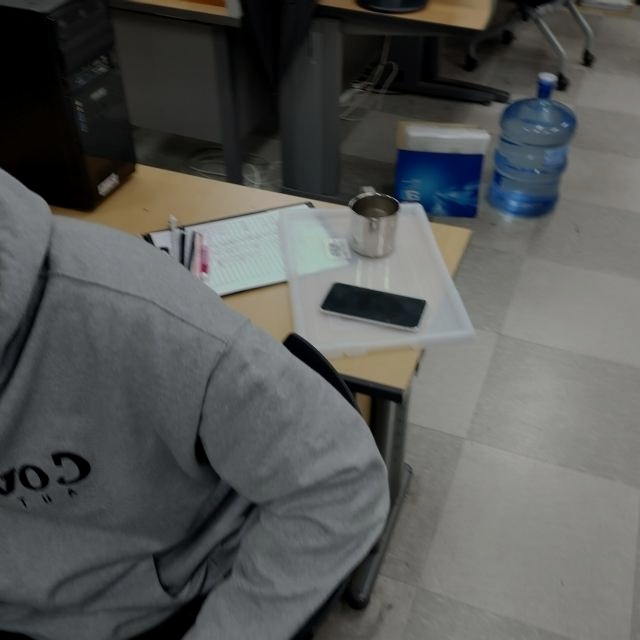cup: (347, 181, 400, 260)
phone: (320, 282, 428, 338)
